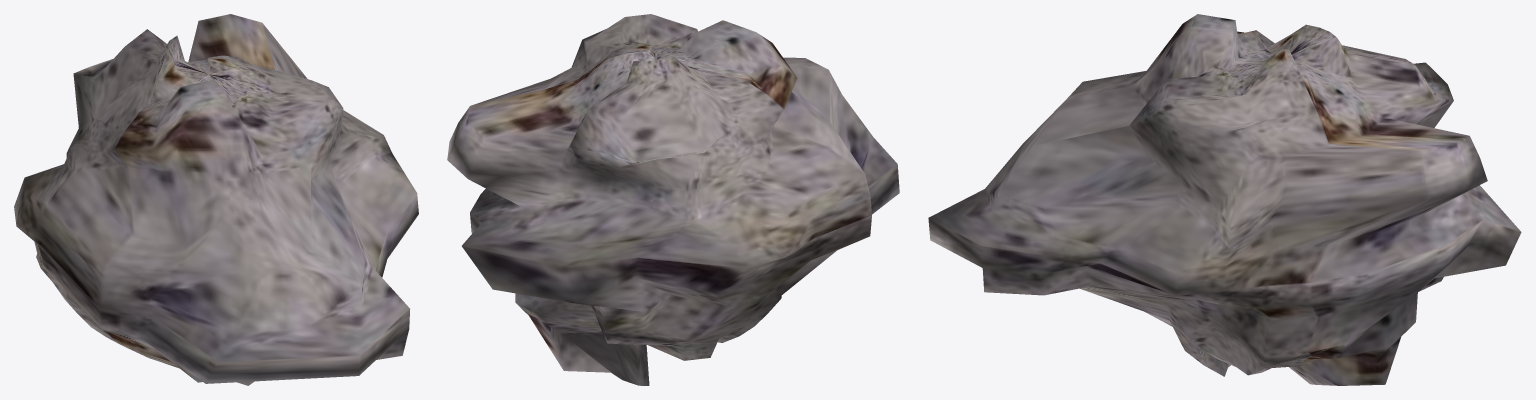
File: howardite.fbx
3 renders of one model, left to right at view 1: azimuth 30°, elevation 25°; view 2: azimuth 150°, elevation 25°; view 3: azimuth 270°, elevation 25°, orthographic. The views are drawn at different scales.
Parts seen in each view (by area): view 1: pSphere1; view 2: pSphere1; view 3: pSphere1.
Boxes of the visible parts, x1,y1,x2,y2 form: pSphere1: (14,14,418,385); pSphere1: (447,14,899,385); pSphere1: (928,14,1521,385).
Bounding box in the file's own units: 12.98 × 12.2 × 19.47.
1 material, 1 textured.
